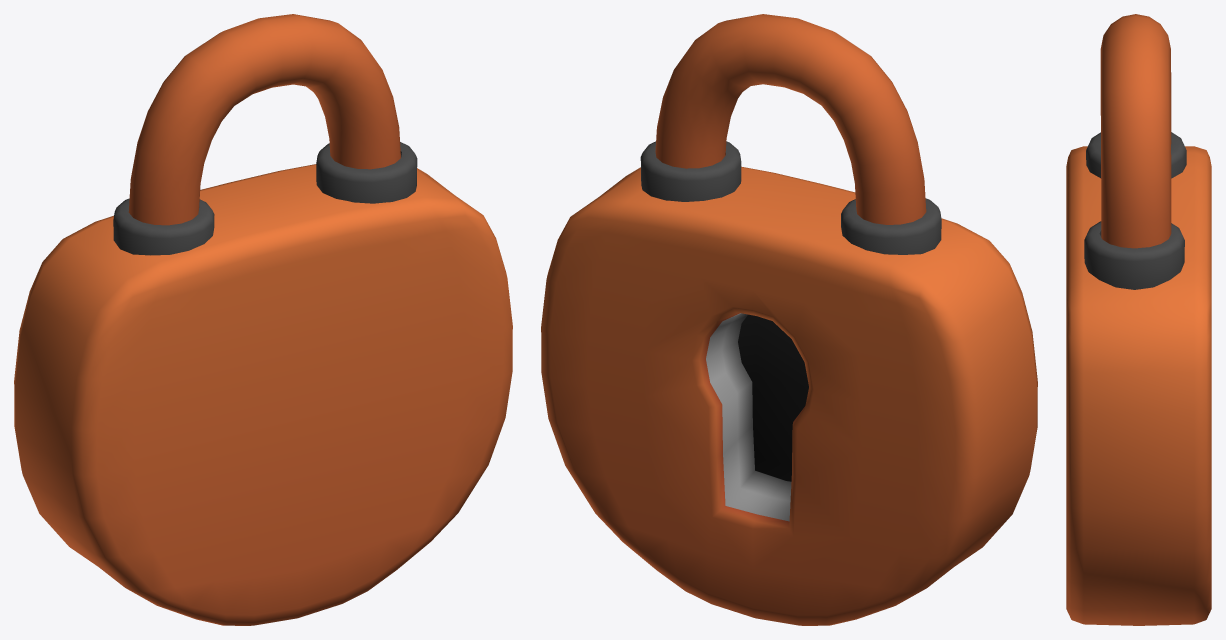
Rendered from Lock_V2_0.fbx.
The picture shows the model from 3 angles, left to right: view 1: azimuth 30°, elevation 25°; view 2: azimuth 150°, elevation 25°; view 3: azimuth 270°, elevation 25°; orthographic projection.
Parts seen in each view (by area): view 1: Lock_V2_0, Lock_V2_1; view 2: Lock_V2_0, Lock_V2_1; view 3: Lock_V2_0, Lock_V2_1.
Boxes of the visible parts, left/top/right/bottom form: Lock_V2_0: left=14, top=142, right=512, bottom=625; Lock_V2_1: left=113, top=14, right=400, bottom=255; Lock_V2_0: left=541, top=141, right=1037, bottom=625; Lock_V2_1: left=655, top=14, right=941, bottom=254; Lock_V2_0: left=1066, top=146, right=1211, bottom=625; Lock_V2_1: left=1086, top=14, right=1186, bottom=248.
Size of the model in its own units: 0.3765 by 0.4743 by 0.1088.
Materials: 1 (1 with a texture image).
